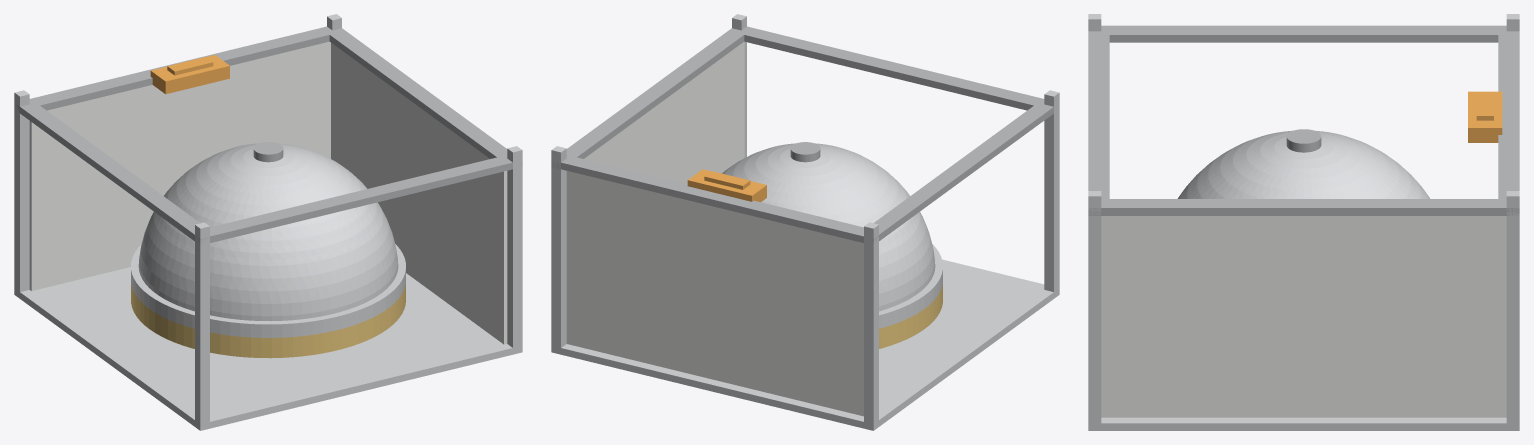
File: sci02_seismometer.glb
3 views of the same model, side by side, from view 1: azimuth 30°, elevation 25°; view 2: azimuth 150°, elevation 25°; view 3: azimuth 270°, elevation 25° (orthographic). The views are drawn at different scales.
Visible parts, largest first — view 1: carrier_walls, slot_frame, dome, top_rim, dome_skirt, port_1, grapple_knob; view 2: carrier_walls, slot_frame, top_rim, dome, port_1, dome_skirt, grapple_knob; view 3: carrier_walls, top_rim, slot_frame, dome, port_1, grapple_knob.
Part boxes in pixels (x1,y1,x2,y2): carrier_walls: [29, 41, 507, 344]; slot_frame: [14, 14, 522, 430]; dome: [131, 143, 405, 337]; top_rim: [14, 26, 522, 242]; dome_skirt: [131, 283, 405, 358]; port_1: [150, 55, 229, 94]; grapple_knob: [253, 142, 283, 162]; carrier_walls: [566, 41, 863, 416]; slot_frame: [551, 14, 1059, 430]; top_rim: [551, 26, 1053, 242]; dome: [722, 143, 942, 328]; port_1: [687, 169, 766, 202]; dome_skirt: [879, 284, 942, 348]; grapple_knob: [790, 142, 820, 162]; carrier_walls: [1101, 216, 1506, 417]; top_rim: [1088, 25, 1519, 215]; slot_frame: [1088, 14, 1519, 430]; dome: [1177, 130, 1430, 198]; port_1: [1468, 91, 1502, 142]; grapple_knob: [1286, 129, 1321, 152].
Size of the model in its own units: 1 by 0.6 by 1.
